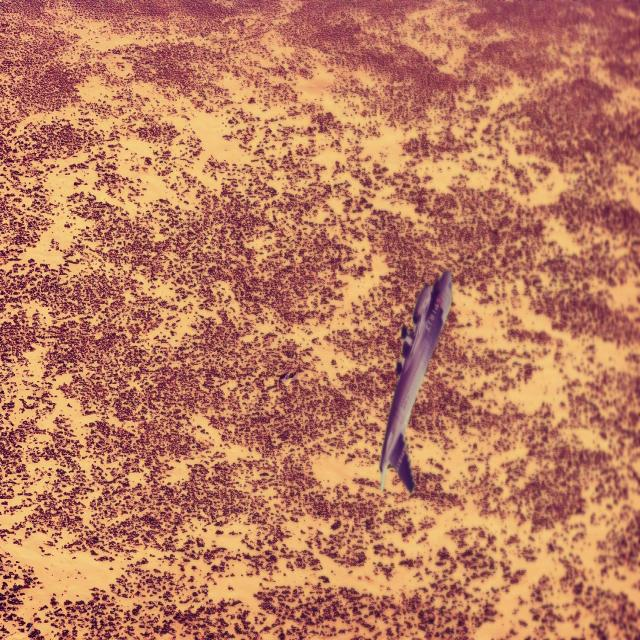airplane: (378, 270, 452, 494)
